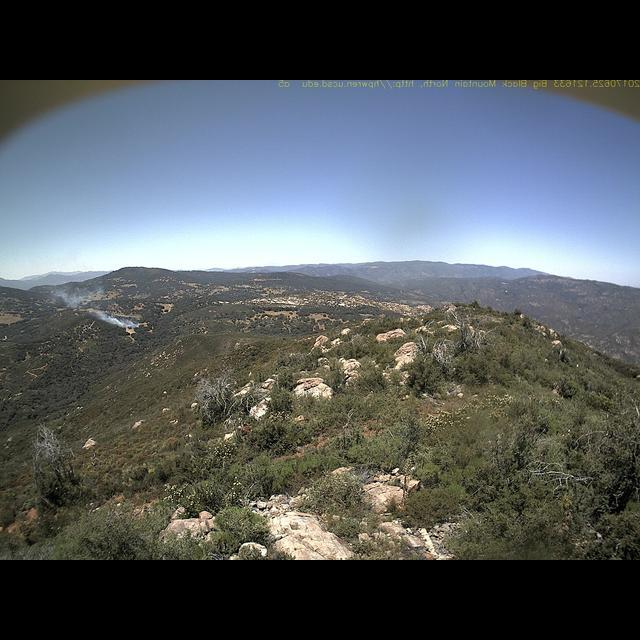Smoke: (55, 284, 143, 328)
